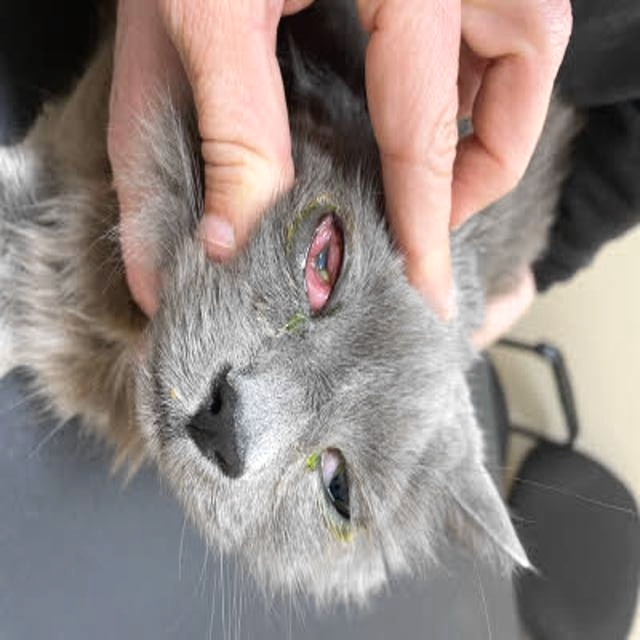eye_infection: (289, 212, 352, 326), (318, 448, 354, 536)
